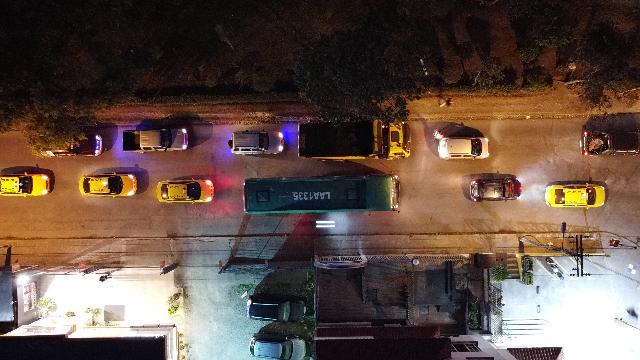Vehiculo: (546, 180, 608, 209), (580, 128, 640, 156), (246, 294, 306, 322), (122, 128, 188, 152), (250, 332, 306, 360), (156, 177, 214, 203), (41, 133, 103, 157), (228, 130, 284, 156), (433, 134, 489, 160), (79, 172, 137, 197), (1, 170, 55, 196), (470, 176, 522, 202)
